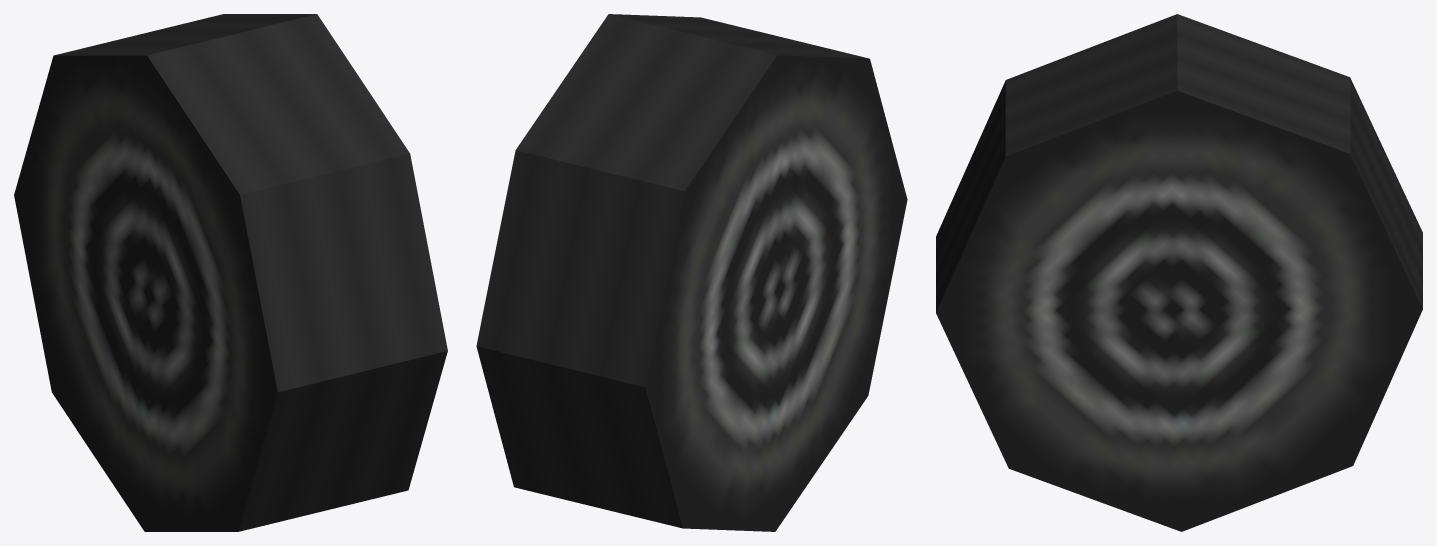
Rendered from Wheel4.obj.
3 renders of one model, left to right at view 1: azimuth 30°, elevation 25°; view 2: azimuth 150°, elevation 25°; view 3: azimuth 270°, elevation 25°, orthographic. The views are drawn at different scales.
Visible parts, largest first — view 1: Car4.001; view 2: Car4.001; view 3: Car4.001.
Part boxes in pixels (box(x1,y1,x2,y2)): Car4.001: box(14, 14, 447, 531); Car4.001: box(476, 14, 907, 531); Car4.001: box(936, 14, 1422, 531).
Bounding box in the file's own units: 0.3903 × 1.05 × 1.05.
1 material, 1 textured.
